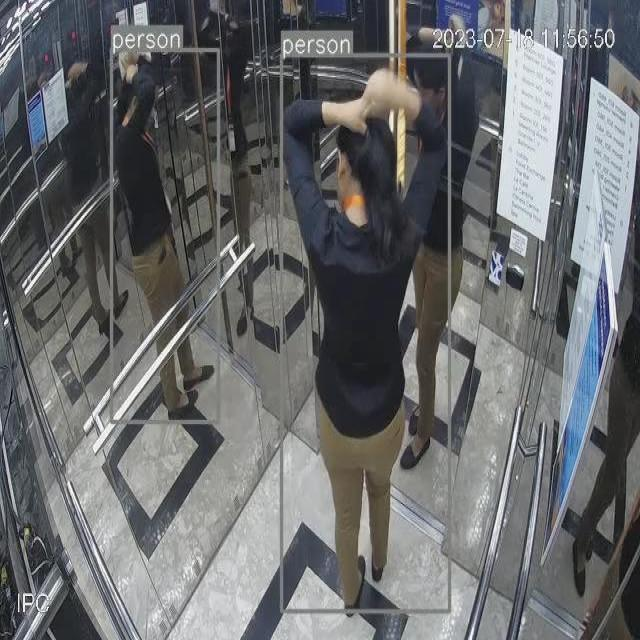person: (285, 55, 451, 609), (113, 46, 219, 422)
